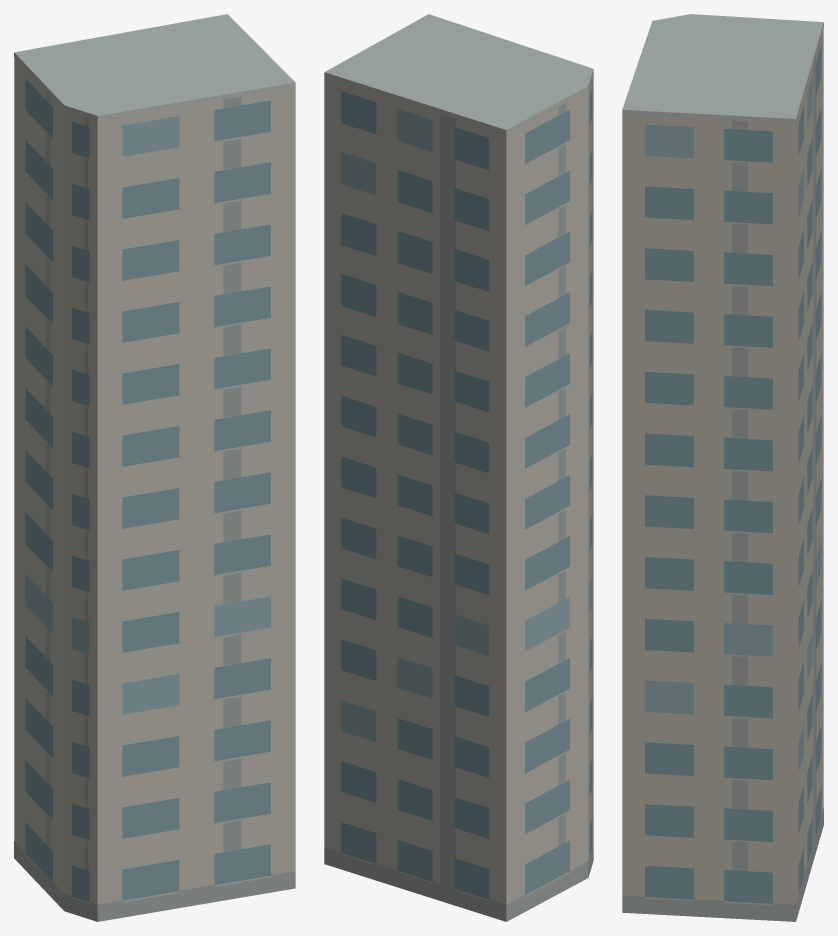
File: survey-upis-32503574.glb
The picture shows the model from 3 angles, left to right: view 1: azimuth 30°, elevation 25°; view 2: azimuth 150°, elevation 25°; view 3: azimuth 270°, elevation 25°; orthographic projection.
Visible parts, largest first — view 1: survey-upis-32503574.tmp; view 2: survey-upis-32503574.tmp; view 3: survey-upis-32503574.tmp.
Part boxes in pixels (<box>): survey-upis-32503574.tmp: <box>14,14,295,921</box>; survey-upis-32503574.tmp: <box>324,14,593,921</box>; survey-upis-32503574.tmp: <box>622,14,823,921</box>.
Bounding box in the file's own units: 11.13 × 39.65 × 9.04.
